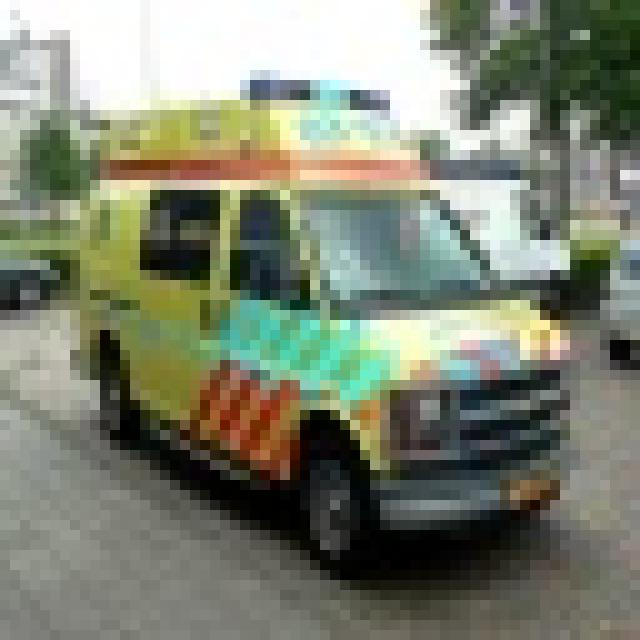Ambulance: (60, 70, 570, 570)
